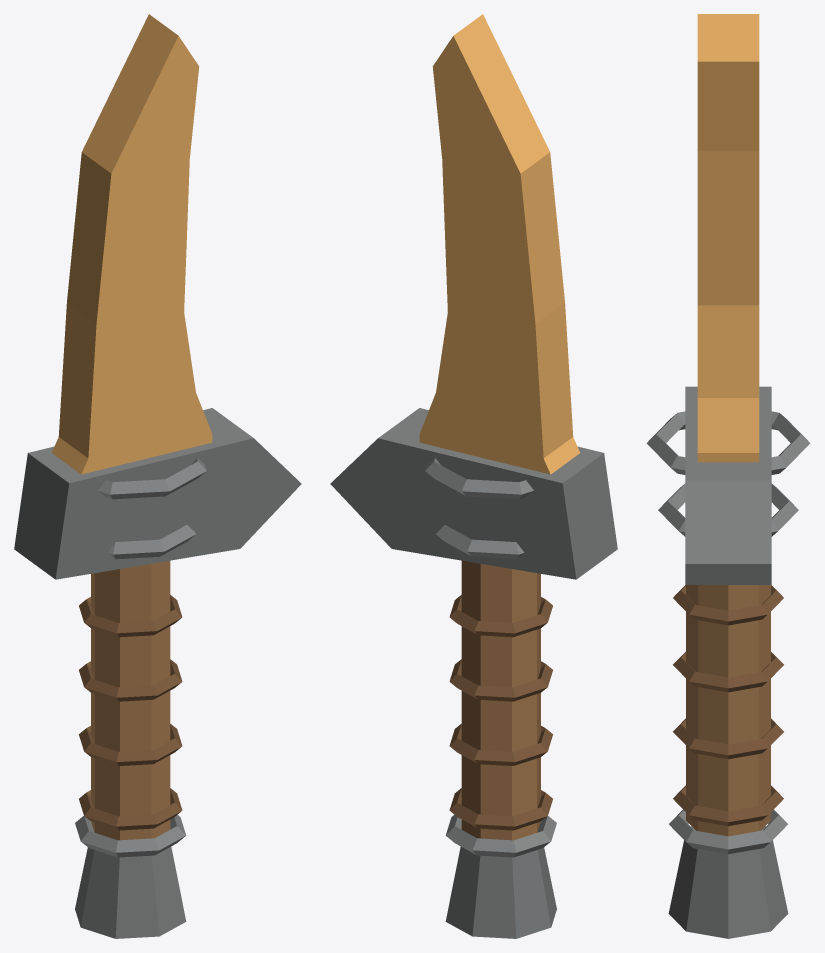
File: t6_skinning_knife.glb
3 renders of one model, left to right at view 1: azimuth 30°, elevation 25°; view 2: azimuth 150°, elevation 25°; view 3: azimuth 270°, elevation 25°, orthographic. The views are drawn at different scales.
Visible parts, largest first — view 1: CurvedSkinningBlade, BladeGuard, WoodHandle, BottomPommel, PommelBand, GuardRing, LeatherWrap1, LeatherWrap3, LeatherWrap4, LeatherWrap2, BladeCollar; view 2: CurvedSkinningBlade, BladeGuard, WoodHandle, BottomPommel, PommelBand, GuardRing, LeatherWrap1, LeatherWrap3, LeatherWrap4, LeatherWrap2, BladeCollar; view 3: CurvedSkinningBlade, WoodHandle, BladeGuard, BottomPommel, GuardRing, PommelBand, LeatherWrap1, LeatherWrap2, LeatherWrap3, LeatherWrap4, BladeCollar.
Boxes of the visible parts, x1,y1,x2,y2 form: CurvedSkinningBlade: [51, 14, 212, 474]; BladeGuard: [14, 408, 301, 579]; WoodHandle: [91, 560, 170, 840]; BottomPommel: [75, 846, 186, 938]; PommelBand: [75, 815, 186, 857]; GuardRing: [98, 458, 206, 499]; LeatherWrap1: [79, 788, 182, 830]; LeatherWrap3: [79, 659, 182, 701]; LeatherWrap4: [79, 595, 182, 637]; LeatherWrap2: [79, 724, 182, 765]; BladeCollar: [107, 525, 195, 559]; CurvedSkinningBlade: [419, 14, 580, 474]; BladeGuard: [330, 408, 617, 579]; WoodHandle: [461, 560, 540, 840]; BottomPommel: [445, 846, 556, 938]; PommelBand: [445, 815, 556, 857]; GuardRing: [425, 458, 533, 499]; LeatherWrap1: [449, 788, 552, 830]; LeatherWrap3: [449, 659, 552, 701]; LeatherWrap4: [449, 595, 552, 637]; LeatherWrap2: [449, 724, 552, 765]; BladeCollar: [436, 525, 524, 559]; CurvedSkinningBlade: [697, 14, 759, 462]; WoodHandle: [686, 585, 770, 836]; BladeGuard: [685, 386, 771, 584]; BottomPommel: [668, 826, 788, 938]; GuardRing: [646, 411, 810, 474]; PommelBand: [669, 809, 787, 854]; LeatherWrap1: [673, 785, 783, 826]; LeatherWrap2: [673, 718, 783, 759]; LeatherWrap3: [673, 652, 783, 692]; LeatherWrap4: [673, 585, 783, 625]; BladeCollar: [658, 483, 798, 536].
Size of the model in its own units: 0.36 by 1.23 by 0.2.
